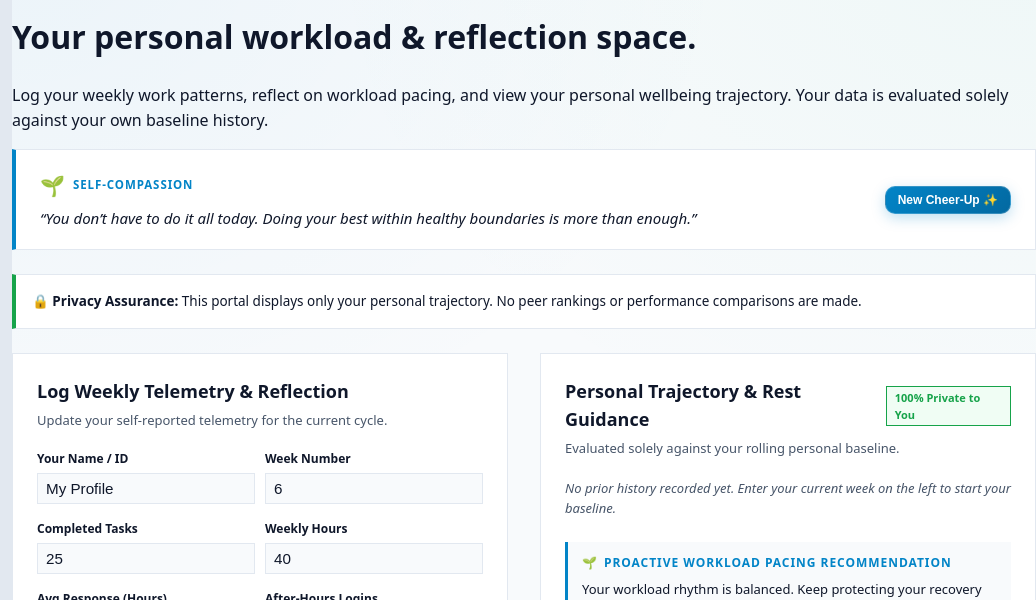
Test: EmployeePortal › submits weekly telemetry and reflection via manual form
Step 1. Replace the text in the number field labelled "Completed Tasks" with "28" → (146, 558), box [37,542,255,574]
(page scrolled)
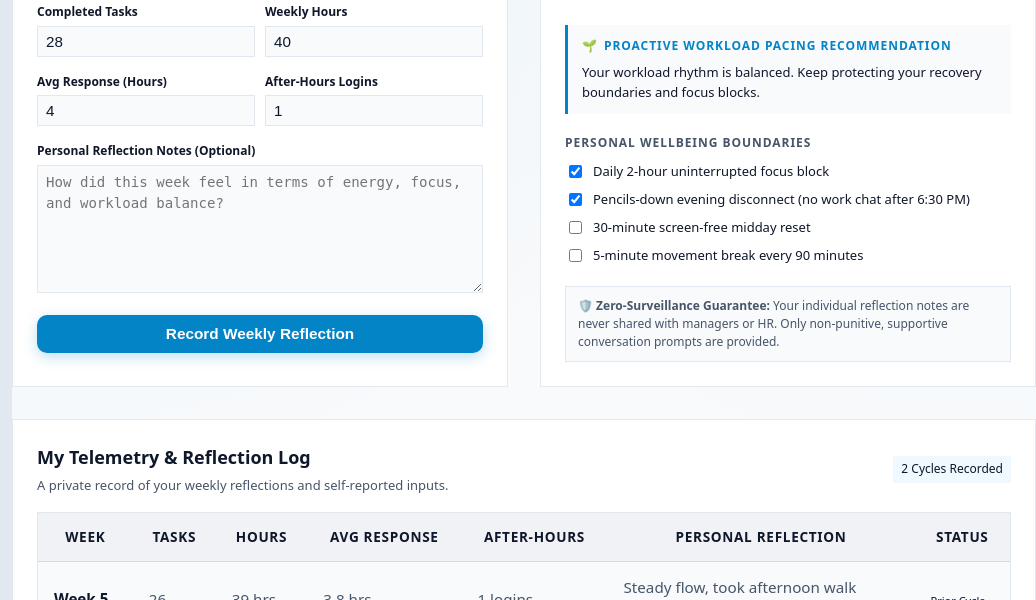
Step 2. Click the button "Record Weekly Reflection" → (260, 334), box [37,316,483,354]
(page scrolled)
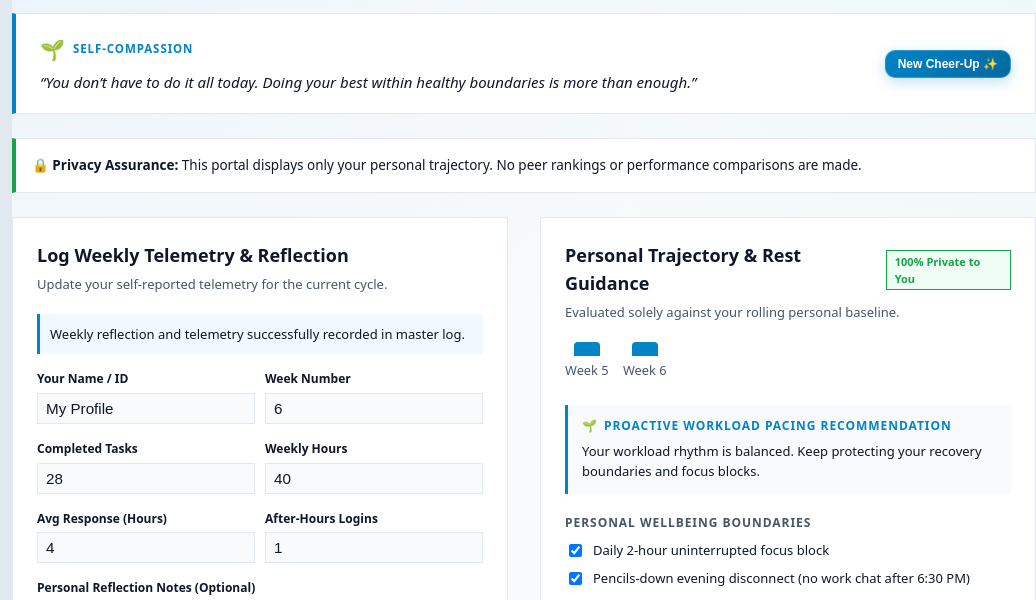
Result: the text "Weekly reflection and telemetry successfully recorded in master log." is shown at [37,314,483,354]
